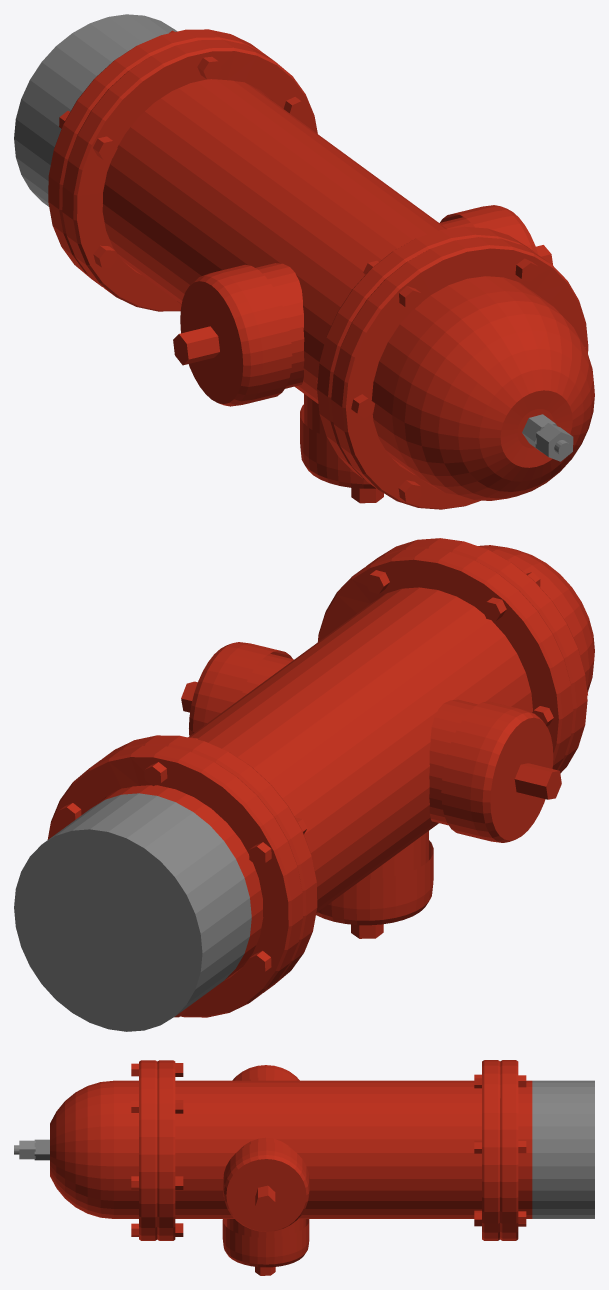
The model's file is Fire Hydrant N050515.3DS.glb.
3 renders of one model, top to bottom at view 1: azimuth 30°, elevation 25°; view 2: azimuth 150°, elevation 25°; view 3: azimuth 270°, elevation 25°, orthographic. The views are drawn at different scales.
Visible parts, largest first — view 1: Node1; view 2: Node1; view 3: Node1.
Part boxes in pixels (x1,y1,x2,y2): Node1: (14, 14, 594, 509); Node1: (14, 538, 594, 1031); Node1: (14, 1060, 594, 1275).
Bounding box in the file's own units: 0.023 × 0.0193 × 0.0499.
